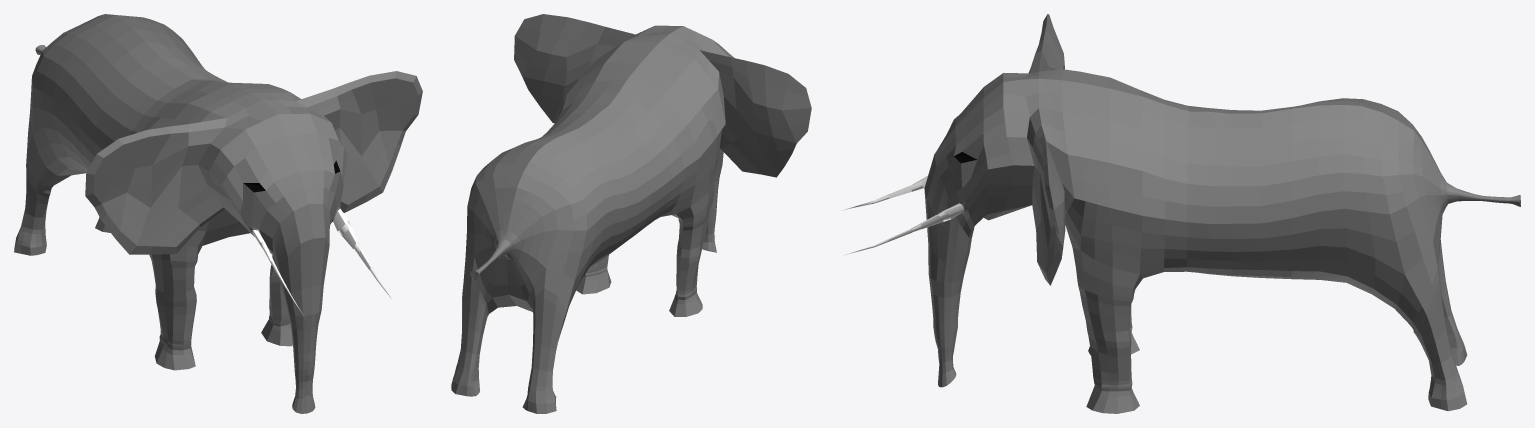
File: Unwrapped_elephant.fbx
The picture shows the model from 3 angles, left to right: view 1: azimuth 30°, elevation 25°; view 2: azimuth 150°, elevation 25°; view 3: azimuth 270°, elevation 25°; orthographic projection. The views are drawn at different scales.
Parts seen in each view (by area): view 1: smooth001; view 2: smooth001; view 3: smooth001.
Part boxes in pixels (x1,y1,x2,y2): smooth001: (14,14,422,413); smooth001: (451,14,811,413); smooth001: (843,14,1520,413).
Bounding box in the file's own units: 44.68 × 35.52 × 71.72.
